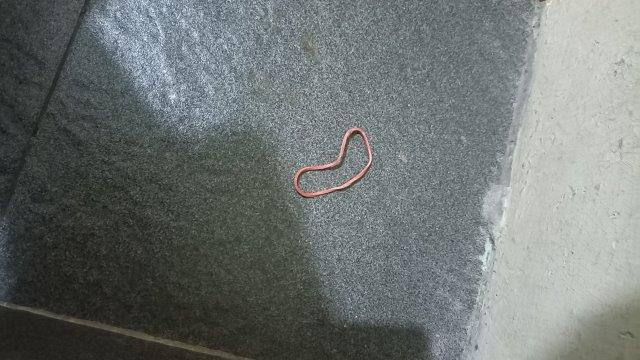karet: (293, 127, 374, 198)
